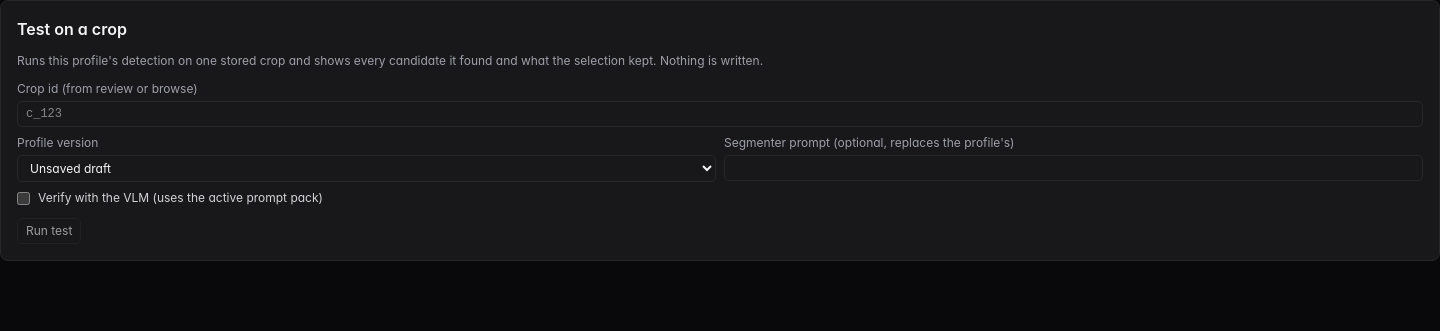
ProfileTestPanel › shows a refusal verbatim, and names the missing crop id
Type "c_404" into the field labelled "Crop id (from review or browse)" at x=720, y=114, box x1=17 y1=101 x2=1423 y2=127
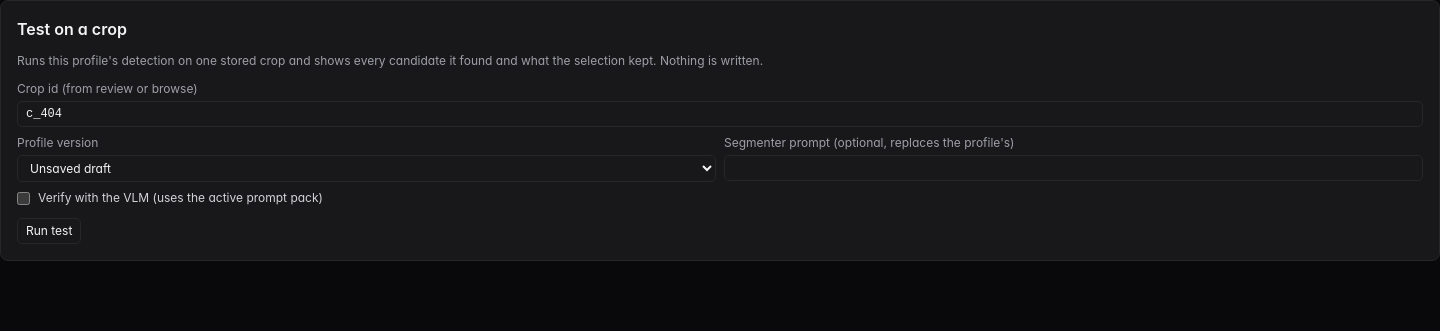
Click the button "Run test" at x=49, y=231, box x1=17 y1=218 x2=81 y2=244
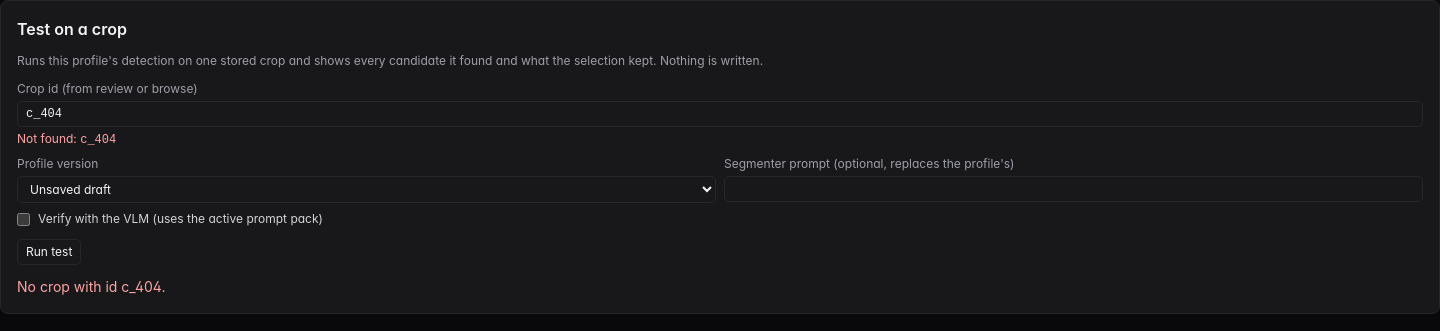
Check: the element showing "No crop with id c_404." reads "No crop with id c_404.", box x1=17 y1=278 x2=165 y2=295
